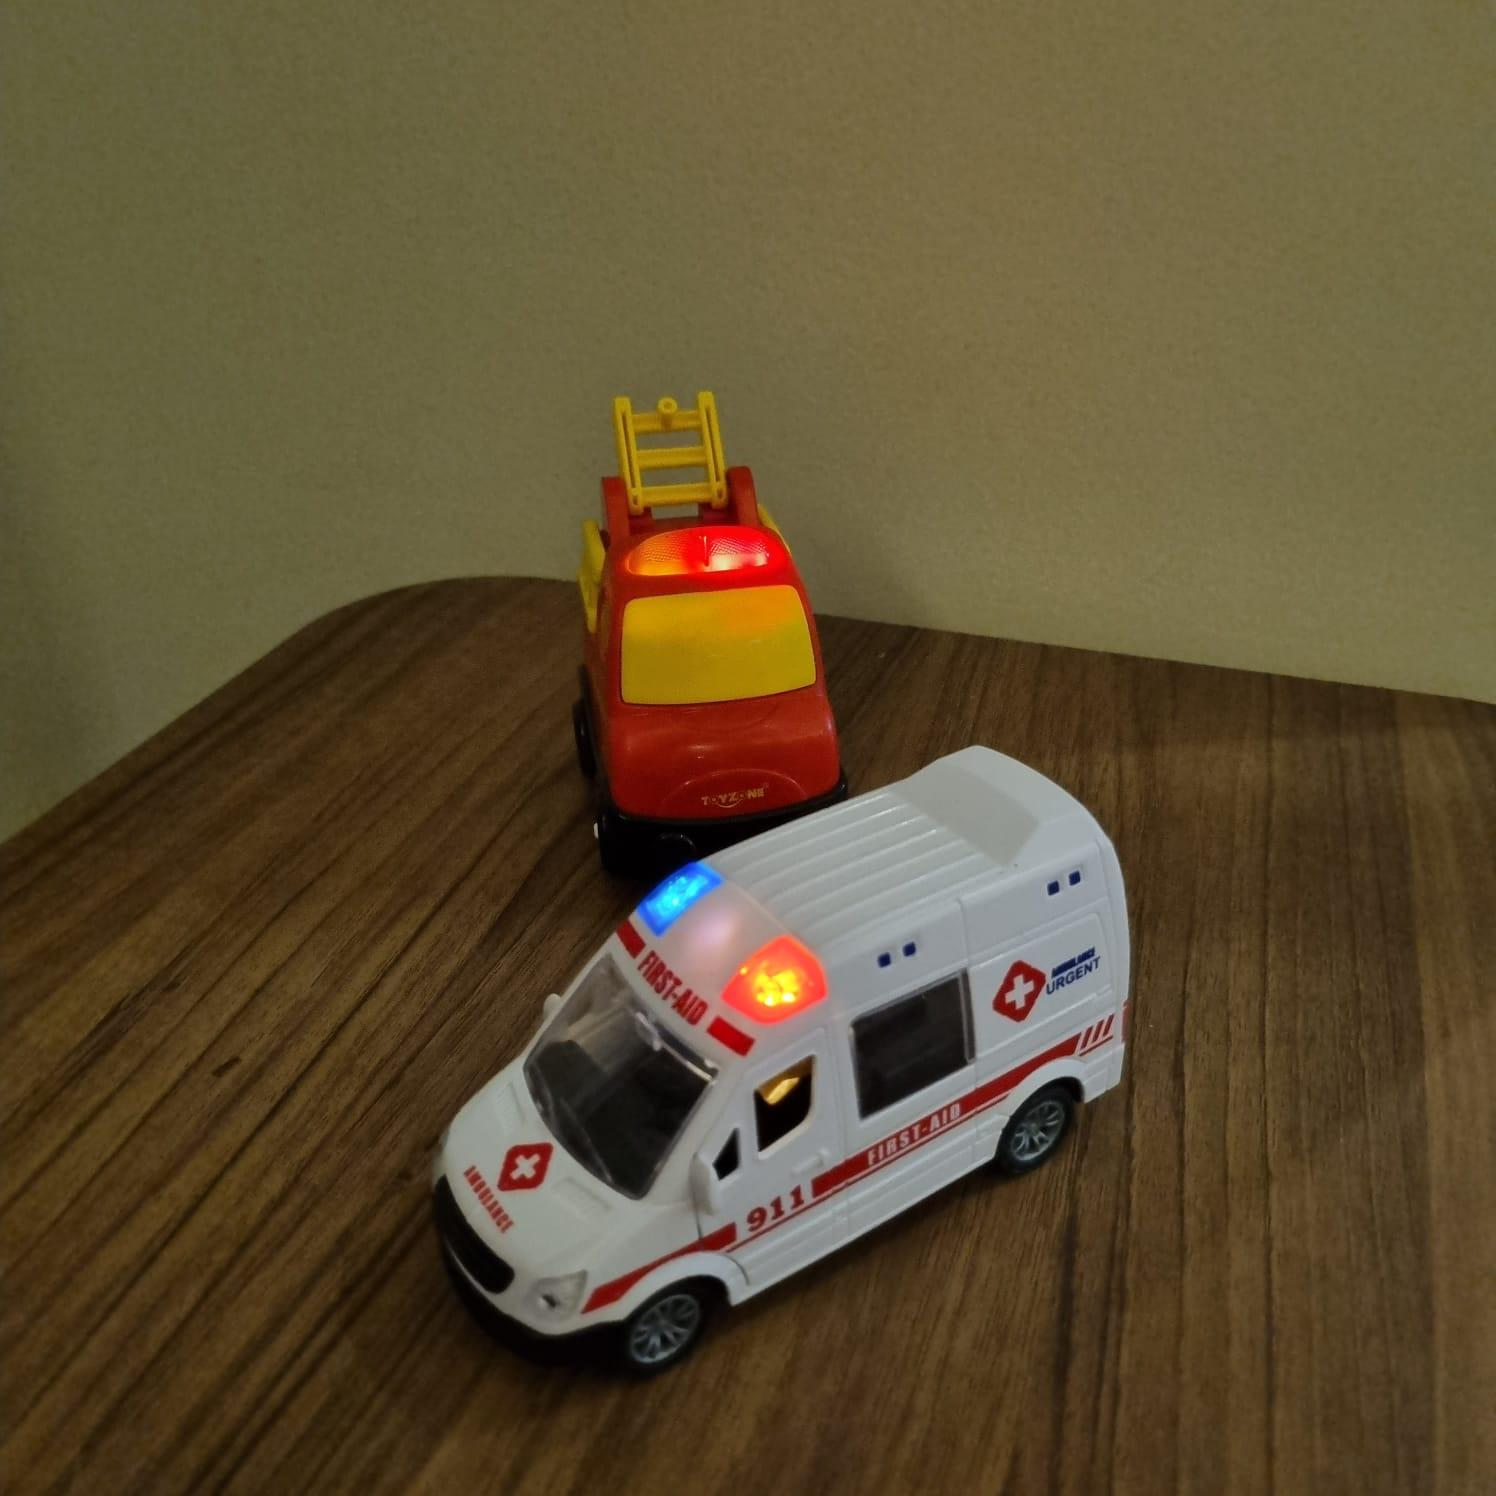ambulance_on: (432, 747, 1133, 1381)
firetruck_on: (571, 389, 851, 859)
